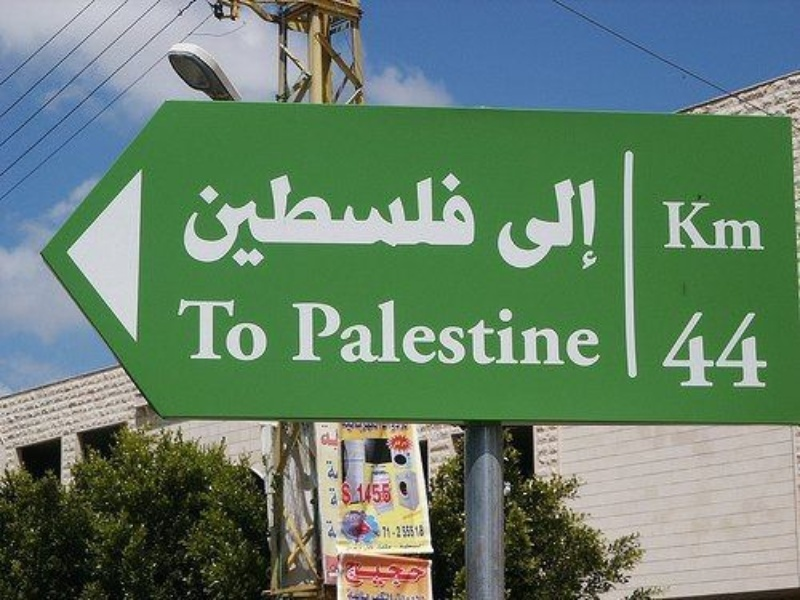text: (193, 172, 208, 269), (209, 172, 224, 269), (225, 172, 240, 269), (241, 172, 256, 269), (257, 172, 272, 269), (273, 172, 288, 269), (289, 172, 304, 269), (305, 172, 320, 269), (321, 172, 336, 269), (337, 172, 352, 269), (353, 172, 368, 269), (369, 172, 384, 269), (385, 172, 400, 269), (401, 172, 416, 269), (417, 172, 432, 269), (433, 172, 448, 269), (449, 172, 464, 269), (513, 180, 528, 269), (529, 180, 544, 269), (545, 180, 560, 269), (561, 180, 576, 269), (577, 180, 592, 269), (498, 180, 512, 269), (753, 311, 769, 388), (673, 311, 688, 388), (689, 311, 704, 388), (705, 311, 720, 388), (721, 311, 736, 388), (737, 311, 752, 388), (181, 172, 192, 269), (465, 172, 476, 269), (305, 300, 320, 369), (321, 300, 336, 369), (337, 300, 352, 369), (353, 300, 368, 369), (369, 300, 384, 369), (385, 300, 400, 369), (401, 300, 416, 369), (417, 300, 432, 369), (433, 300, 448, 369), (449, 300, 464, 369), (465, 300, 480, 369), (481, 300, 496, 369), (497, 300, 512, 369), (513, 300, 528, 369), (529, 300, 544, 369), (545, 300, 560, 369), (561, 300, 576, 369), (577, 300, 592, 369), (193, 300, 208, 362), (209, 300, 224, 362), (225, 300, 240, 362), (241, 300, 256, 362), (660, 311, 672, 388), (178, 300, 192, 362), (292, 300, 304, 369), (593, 300, 605, 369), (673, 201, 688, 250), (689, 201, 704, 250), (705, 201, 720, 250), (721, 201, 736, 250), (737, 201, 752, 250), (257, 300, 268, 362), (753, 201, 765, 250), (321, 423, 336, 453), (663, 201, 672, 250), (353, 561, 368, 588), (369, 561, 384, 588), (385, 561, 400, 588), (401, 561, 416, 588), (593, 180, 597, 269), (369, 484, 384, 505), (324, 517, 336, 543), (417, 561, 428, 588), (354, 484, 368, 505), (324, 458, 336, 482), (385, 522, 400, 540), (401, 522, 416, 540), (341, 484, 352, 506), (345, 561, 352, 588), (353, 421, 368, 433), (369, 421, 384, 433), (385, 421, 400, 433), (353, 588, 368, 600), (369, 588, 384, 600), (385, 588, 400, 600), (401, 588, 416, 600), (329, 485, 336, 509), (417, 522, 426, 540), (341, 421, 352, 433), (385, 484, 391, 505), (337, 423, 341, 453), (401, 421, 410, 433), (343, 588, 352, 600), (417, 588, 426, 600), (317, 423, 320, 453), (337, 485, 340, 509), (337, 458, 340, 482), (381, 522, 384, 540), (337, 517, 338, 543)
